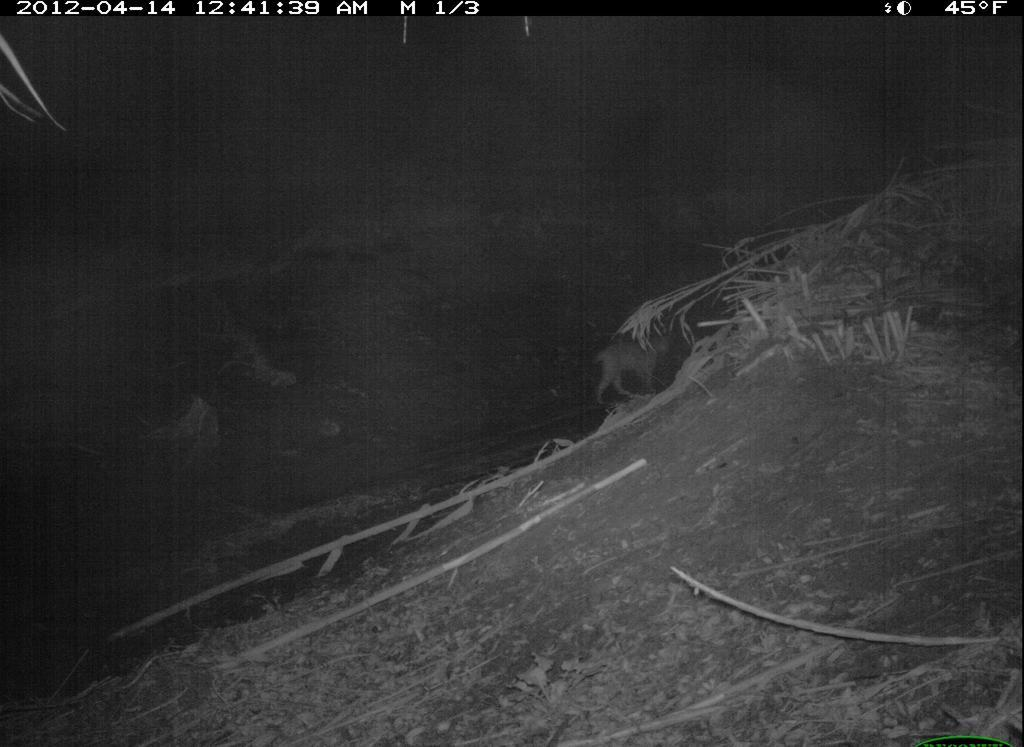bobcat: (584, 326, 680, 411)
